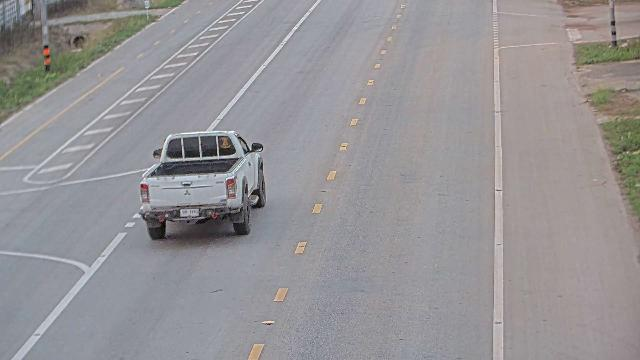pickup-truck: (138, 129, 266, 240)
